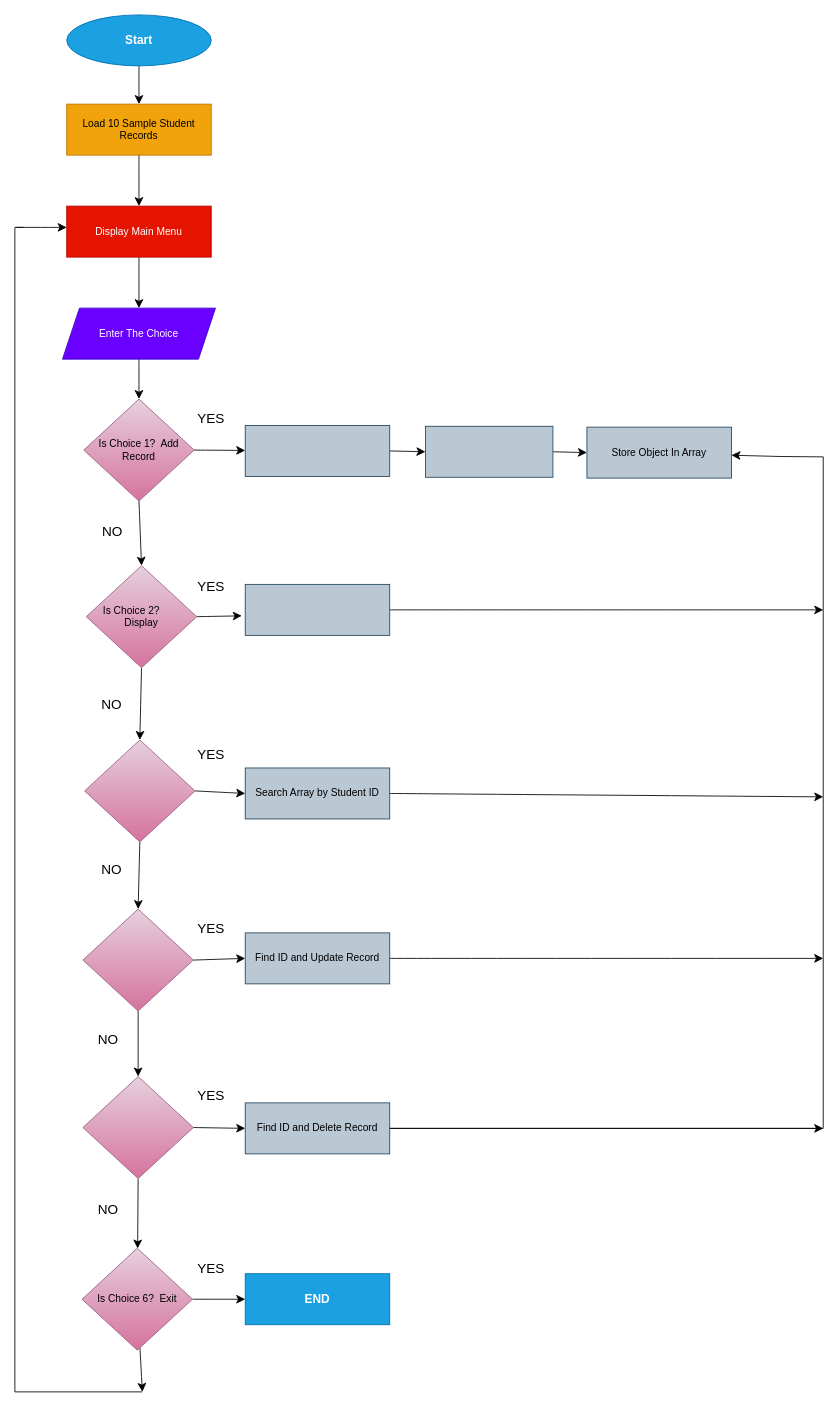
This 839x1408 diagram has some shape labels left out. Here are the shapes that lost their labels. From the top down, the box of each, then its label:
(244, 425, 390, 476): Validate ID and Input Student Information
(425, 425, 553, 477): Create Student Object
(244, 584, 390, 635): Display All Array Records
(84, 739, 195, 842): Is Choice 3? Search
(82, 908, 193, 1011): Is Choice 4? Update
(82, 1076, 193, 1179): Is Choice 5? Delete
